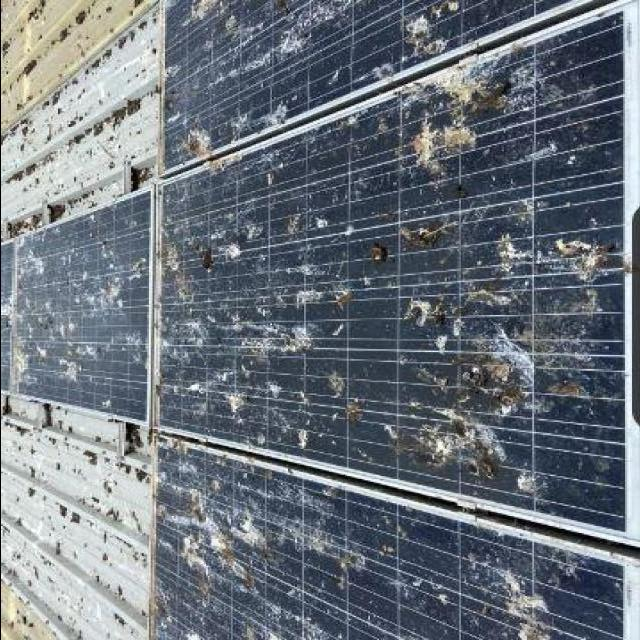soiled: (164, 3, 636, 640), (2, 196, 148, 420)
